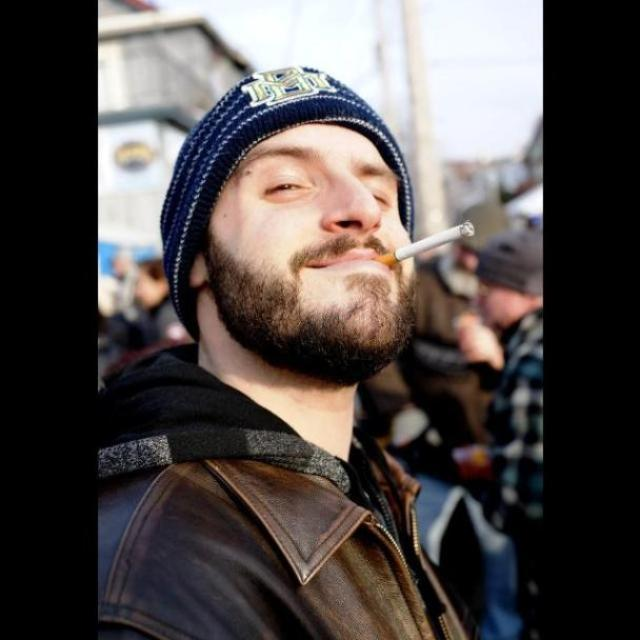rokok: (368, 216, 476, 268)
